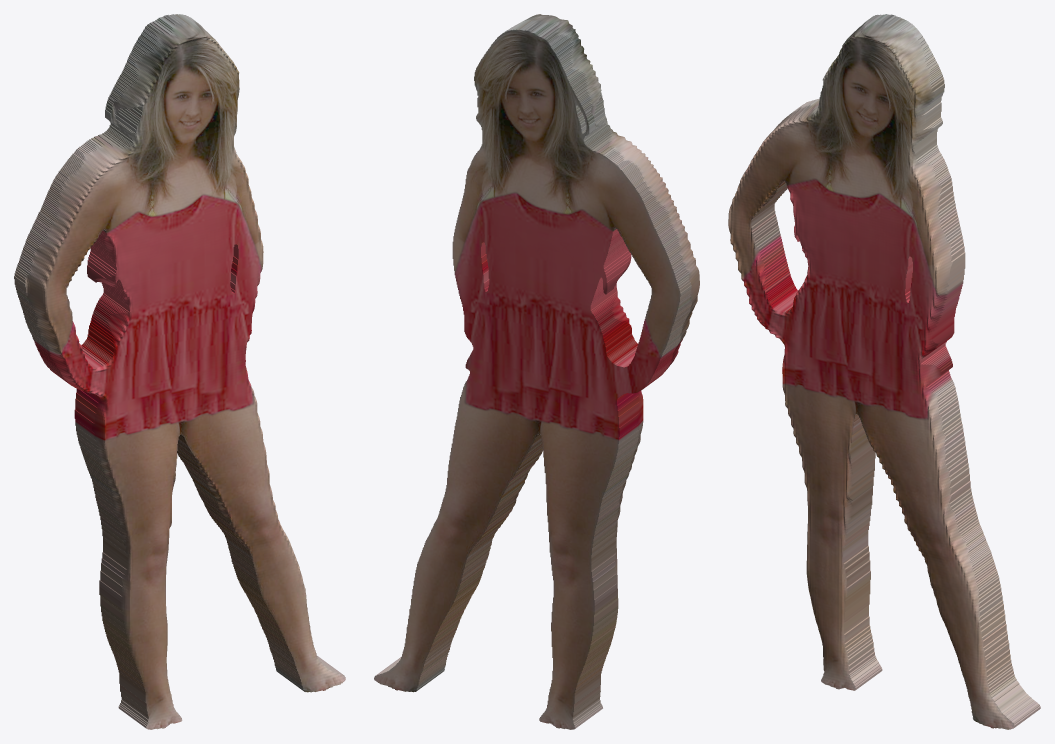
File: avatar_221547.glb
The picture shows the model from 3 angles, left to right: view 1: azimuth 30°, elevation 25°; view 2: azimuth 150°, elevation 25°; view 3: azimuth 330°, elevation 25°; orthographic projection. The views are drawn at different scales.
Visible parts, largest first — view 1: world; view 2: world; view 3: world.
Boxes of the visible parts, x1,y1,x2,y2 form: world: (14, 14, 345, 729); world: (374, 14, 699, 729); world: (728, 14, 1040, 729).
Size of the model in its own units: 83.98 by 181 by 13.42.
